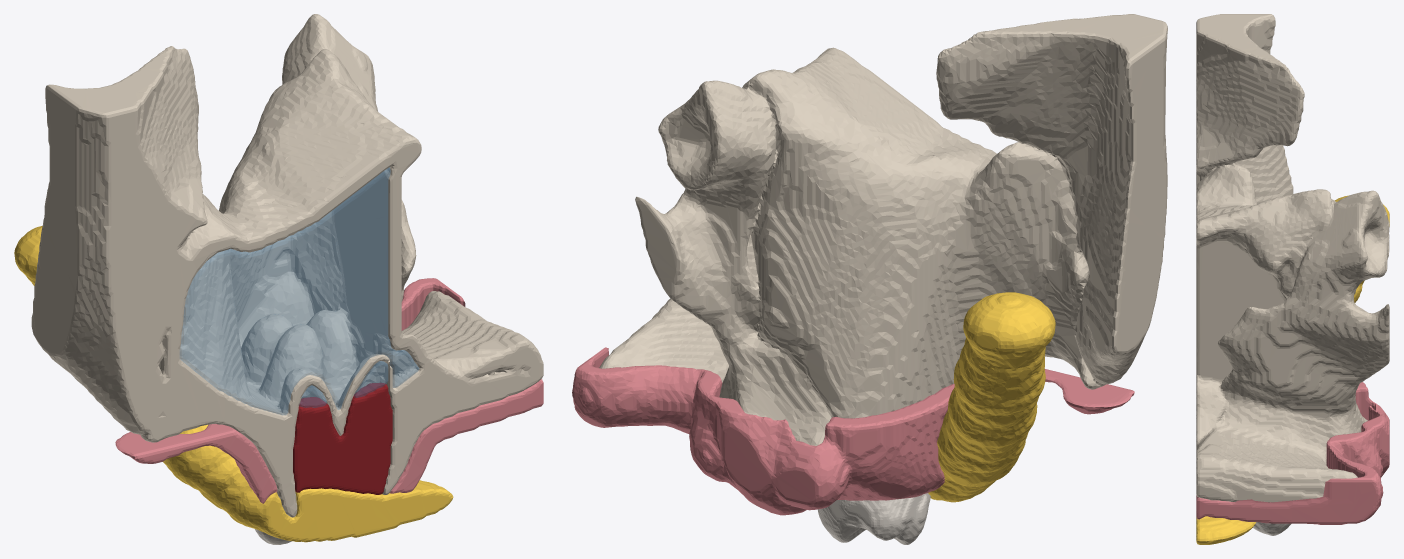
File: bfp.glb
3 views of the same model, side by side, from view 1: azimuth 30°, elevation 25°; view 2: azimuth 150°, elevation 25°; view 3: azimuth 270°, elevation 25° (orthographic). The views are drawn at different scales.
Visible parts, largest first — view 1: bone, sinus, fat, gum, clot; view 2: bone, gum, fat, teeth; view 3: bone, gum, fat, teeth.
Part boxes in pixels (x1,y1,x2,y2): bone: (31, 14, 543, 517); sinus: (180, 167, 419, 415); fat: (14, 226, 453, 542); gum: (115, 278, 543, 503); clot: (293, 382, 392, 494); bone: (599, 14, 1167, 445); gum: (572, 347, 1134, 515); fat: (928, 292, 1055, 502); teeth: (817, 493, 930, 544); bone: (1196, 14, 1389, 502); gum: (1196, 382, 1389, 524); fat: (1196, 195, 1389, 544); teeth: (1253, 522, 1291, 535).
Bounding box in the file's own units: 0.051 × 0.0547 × 0.023.
